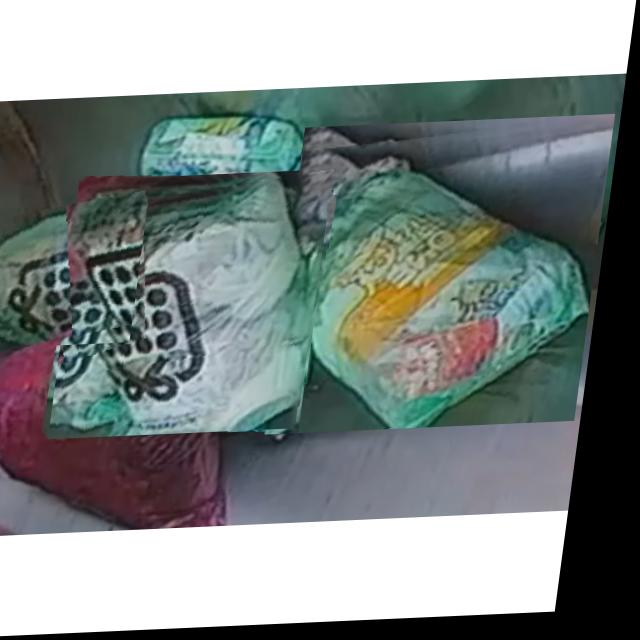general_trashbag: (303, 149, 595, 432), (79, 182, 313, 437), (0, 199, 152, 348)
